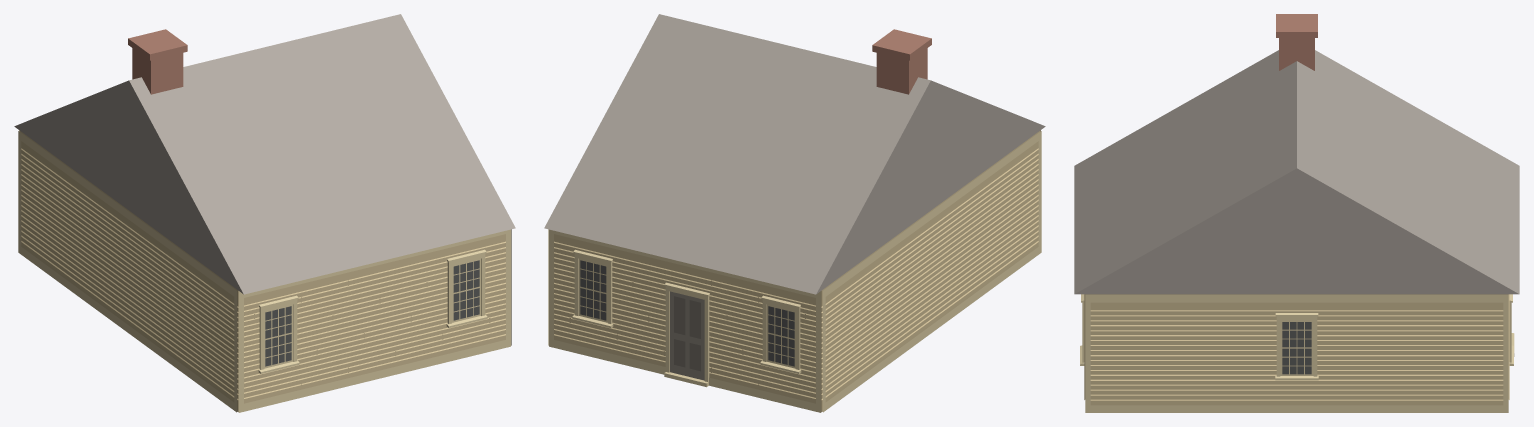
File: recon_1835_north_d5_037__inferred_1835.glb
3 views of the same model, side by side, from view 1: azimuth 30°, elevation 25°; view 2: azimuth 150°, elevation 25°; view 3: azimuth 270°, elevation 25° (orthographic). The views are drawn at different scales.
Parts seen in each view (by area): view 1: recon_1835_north_d5_037__inferred_1835; view 2: recon_1835_north_d5_037__inferred_1835; view 3: recon_1835_north_d5_037__inferred_1835.
Part boxes in pixels (box(x1,y1,x2,y2)): recon_1835_north_d5_037__inferred_1835: box(14, 14, 515, 412); recon_1835_north_d5_037__inferred_1835: box(544, 14, 1045, 412); recon_1835_north_d5_037__inferred_1835: box(1074, 14, 1519, 412).
Size of the model in its own units: 7.21 by 7.03 by 10.32.
